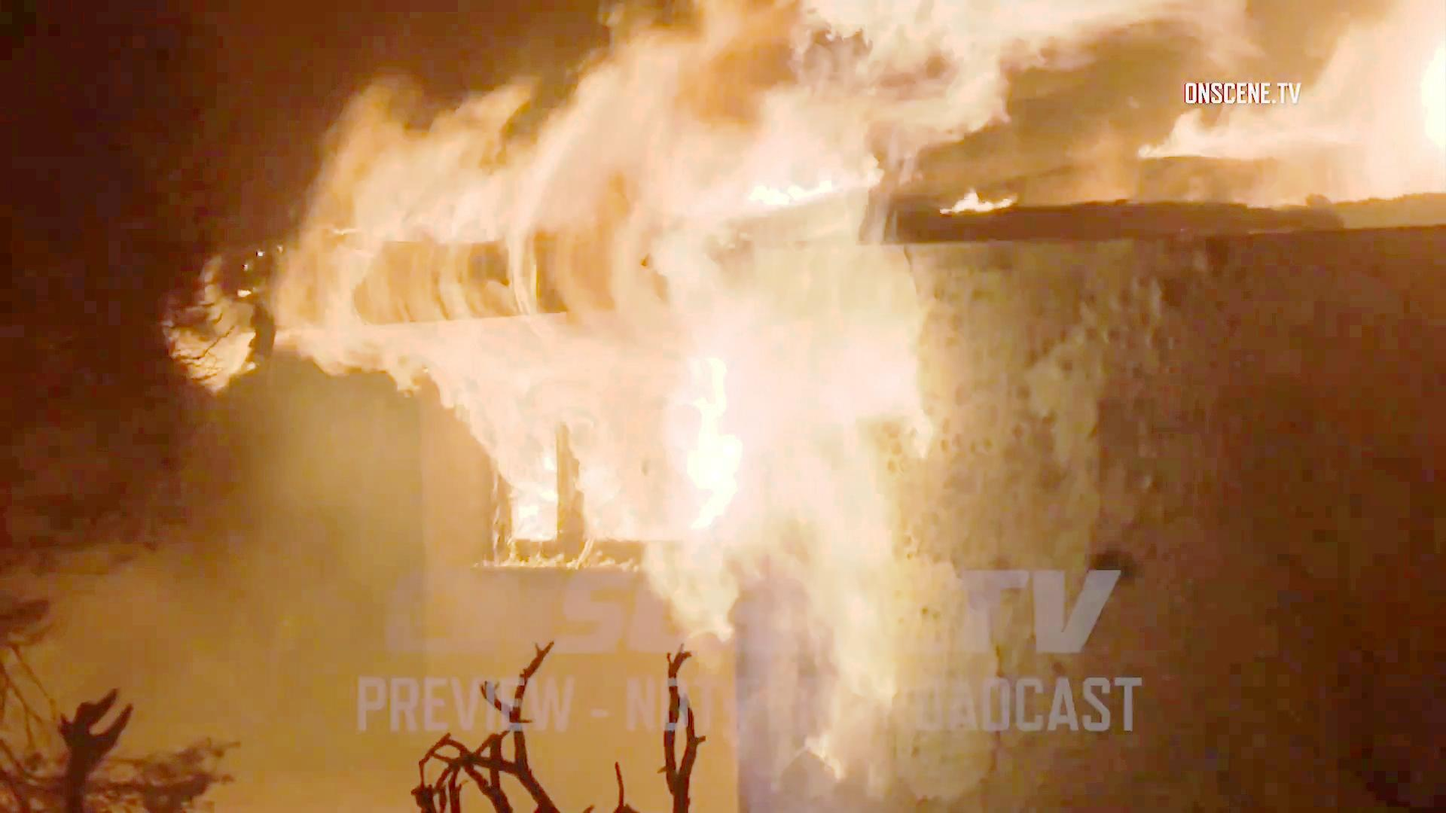fire: (251, 2, 885, 550), (1373, 14, 1446, 244)
